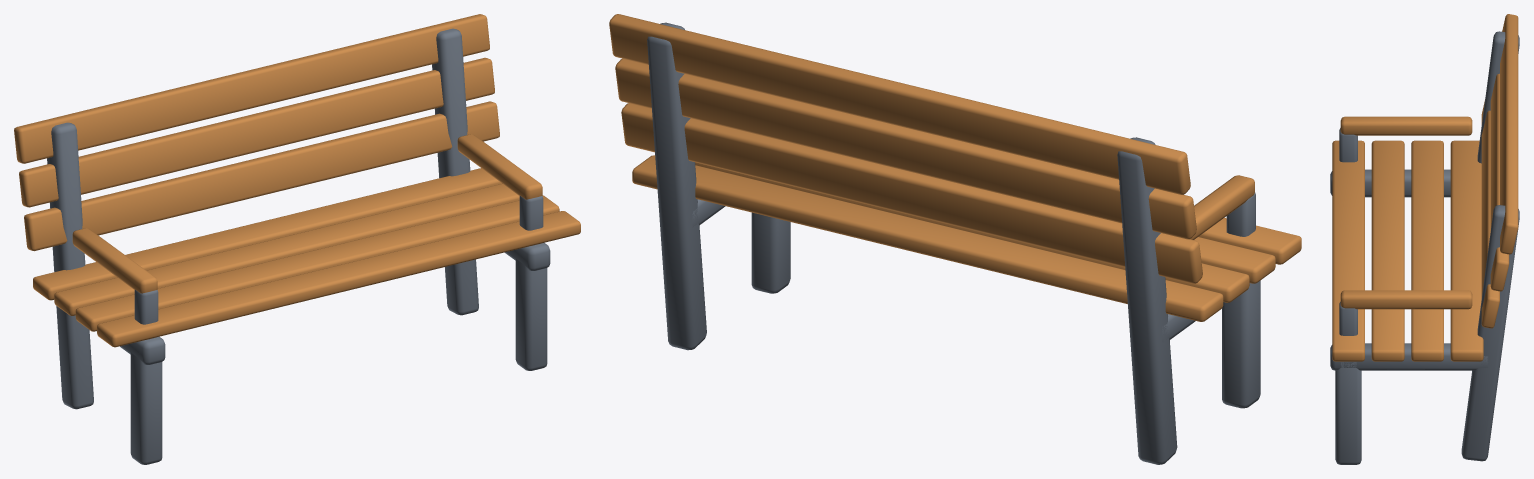
The model's file is bench.glb.
3 renders of one model, left to right at view 1: azimuth 30°, elevation 25°; view 2: azimuth 150°, elevation 25°; view 3: azimuth 270°, elevation 25°, orthographic. The views are drawn at different scales.
Visible parts, largest first — view 1: bench; view 2: bench; view 3: bench.
Part boxes in pixels (x1=…): bench: x1=14, y1=14, x2=580, y2=464; bench: x1=609, y1=14, x2=1301, y2=464; bench: x1=1330, y1=14, x2=1519, y2=464.
Size of the model in its own units: 1.9 by 1.08 by 0.7201.
